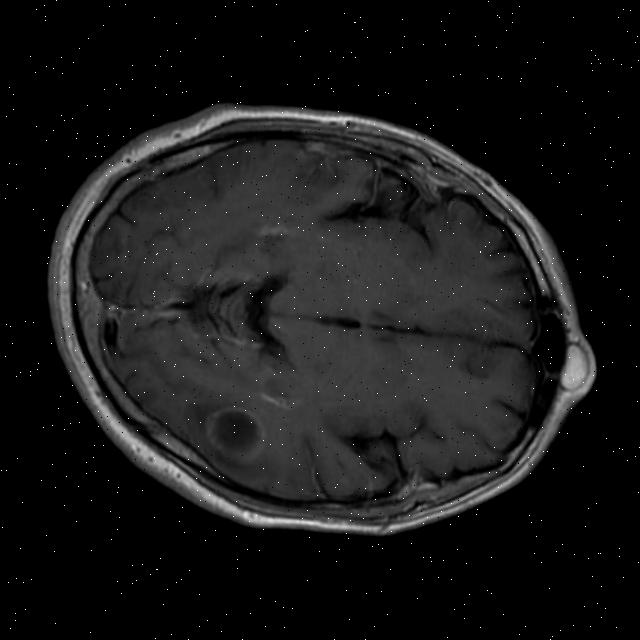Glioma: (195, 398, 273, 471)
